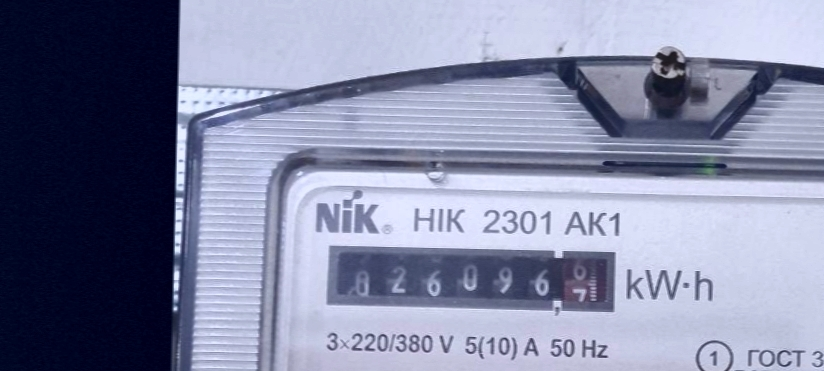0: (459, 258, 480, 294), (351, 264, 372, 296)
2: (387, 261, 409, 296)
6: (424, 264, 444, 299), (532, 263, 551, 296), (570, 254, 589, 281)
7: (570, 283, 589, 304)
9: (495, 262, 515, 295)
screen: (317, 234, 624, 322)
